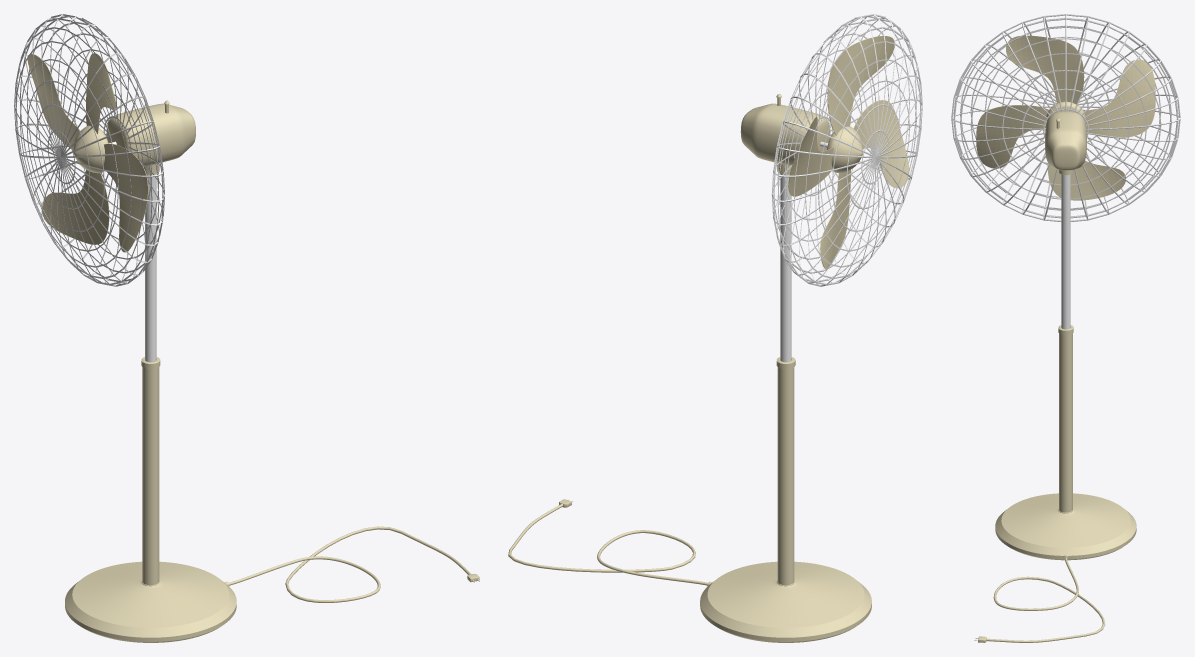
3 views of the same model, side by side, from view 1: azimuth 30°, elevation 25°; view 2: azimuth 150°, elevation 25°; view 3: azimuth 270°, elevation 25° (orthographic). The views are drawn at different scales.
Visible parts, largest first — view 1: Pata, Rejilla, Plane.001, Motor, Cylinder.002, BezierCurve, Aspas; view 2: Pata, Rejilla, Plane.001, Motor, Cylinder.002, BezierCurve, Aspas; view 3: Rejilla, Plane.001, Pata, Motor, Cylinder.002, BezierCurve.
Part boxes in pixels (left/top/right/bottom): Pata: left=65, top=357, right=236, bottom=642; Rejilla: left=14, top=14, right=164, bottom=286; Plane.001: left=27, top=53, right=148, bottom=252; Motor: left=106, top=103, right=195, bottom=166; Cylinder.002: left=145, top=173, right=156, bottom=362; BezierCurve: left=229, top=526, right=471, bottom=602; Aspas: left=73, top=125, right=108, bottom=173; Pata: left=700, top=357, right=871, bottom=642; Rejilla: left=771, top=14, right=922, bottom=286; Plane.001: left=788, top=35, right=909, bottom=269; Motor: left=740, top=103, right=830, bottom=166; Cylinder.002: left=780, top=174, right=791, bottom=362; BezierCurve: left=508, top=504, right=707, bottom=585; Aspas: left=827, top=126, right=863, bottom=173; Rejilla: left=951, top=14, right=1180, bottom=221; Plane.001: left=976, top=35, right=1155, bottom=200; Pata: left=995, top=325, right=1136, bottom=560; Motor: left=1045, top=111, right=1086, bottom=170; Cylinder.002: left=1061, top=174, right=1070, bottom=329; BezierCurve: left=986, top=557, right=1105, bottom=642.
Size of the model in its own units: 0.9916 by 1.55 by 0.6525.
